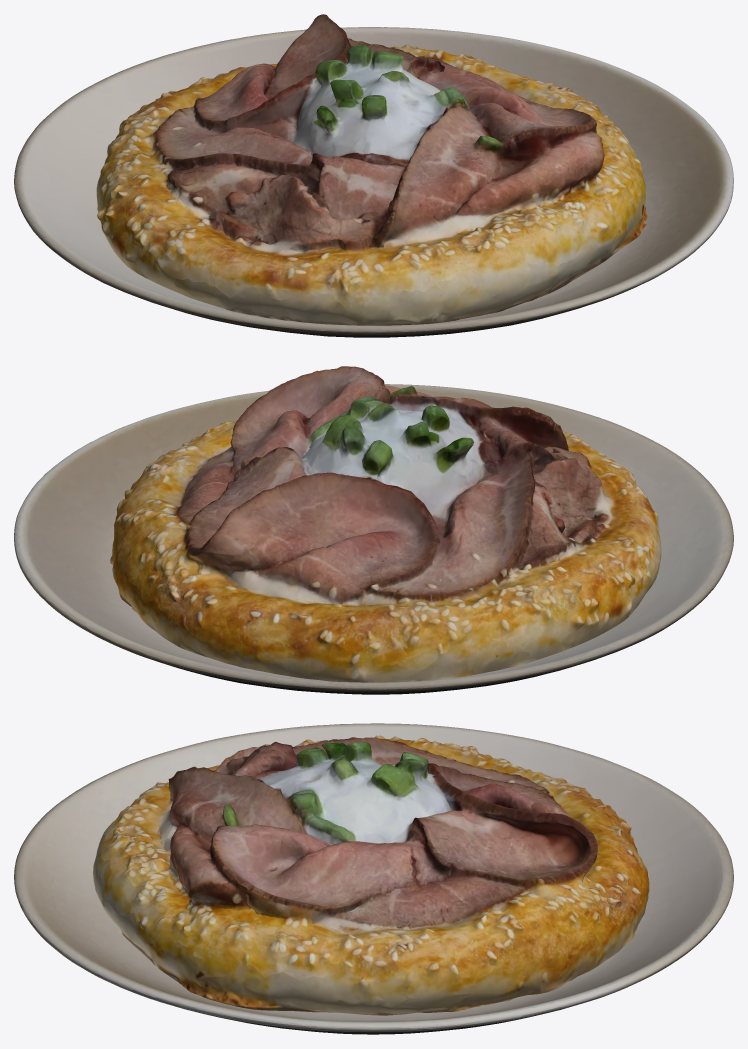
Rendered from flatbread.rostbeef.or.turkey.001.glb.
3 renders of one model, top to bottom at view 1: azimuth 30°, elevation 25°; view 2: azimuth 150°, elevation 25°; view 3: azimuth 270°, elevation 25°, orthographic.
Parts seen in each view (by area): view 1: /Root/Scenes/Scene/Object_37/Object_38/Submesh_0, /Root/Scenes/Scene/Object_37/Object_41/Object_42/Submesh_0; view 2: /Root/Scenes/Scene/Object_37/Object_38/Submesh_0, /Root/Scenes/Scene/Object_37/Object_41/Object_42/Submesh_0; view 3: /Root/Scenes/Scene/Object_37/Object_38/Submesh_0, /Root/Scenes/Scene/Object_37/Object_41/Object_42/Submesh_0.
Boxes of the visible parts, <box> form: /Root/Scenes/Scene/Object_37/Object_38/Submesh_0: <box>96,14,647,325</box>; /Root/Scenes/Scene/Object_37/Object_41/Object_42/Submesh_0: <box>14,27,733,337</box>; /Root/Scenes/Scene/Object_37/Object_38/Submesh_0: <box>110,366,661,682</box>; /Root/Scenes/Scene/Object_37/Object_41/Object_42/Submesh_0: <box>14,384,733,694</box>; /Root/Scenes/Scene/Object_37/Object_38/Submesh_0: <box>93,735,649,1015</box>; /Root/Scenes/Scene/Object_37/Object_41/Object_42/Submesh_0: <box>14,723,733,1034</box>.
Bounding box in the file's own units: 0.2501 × 0.0639 × 0.2501.
2 materials, 2 textured.
